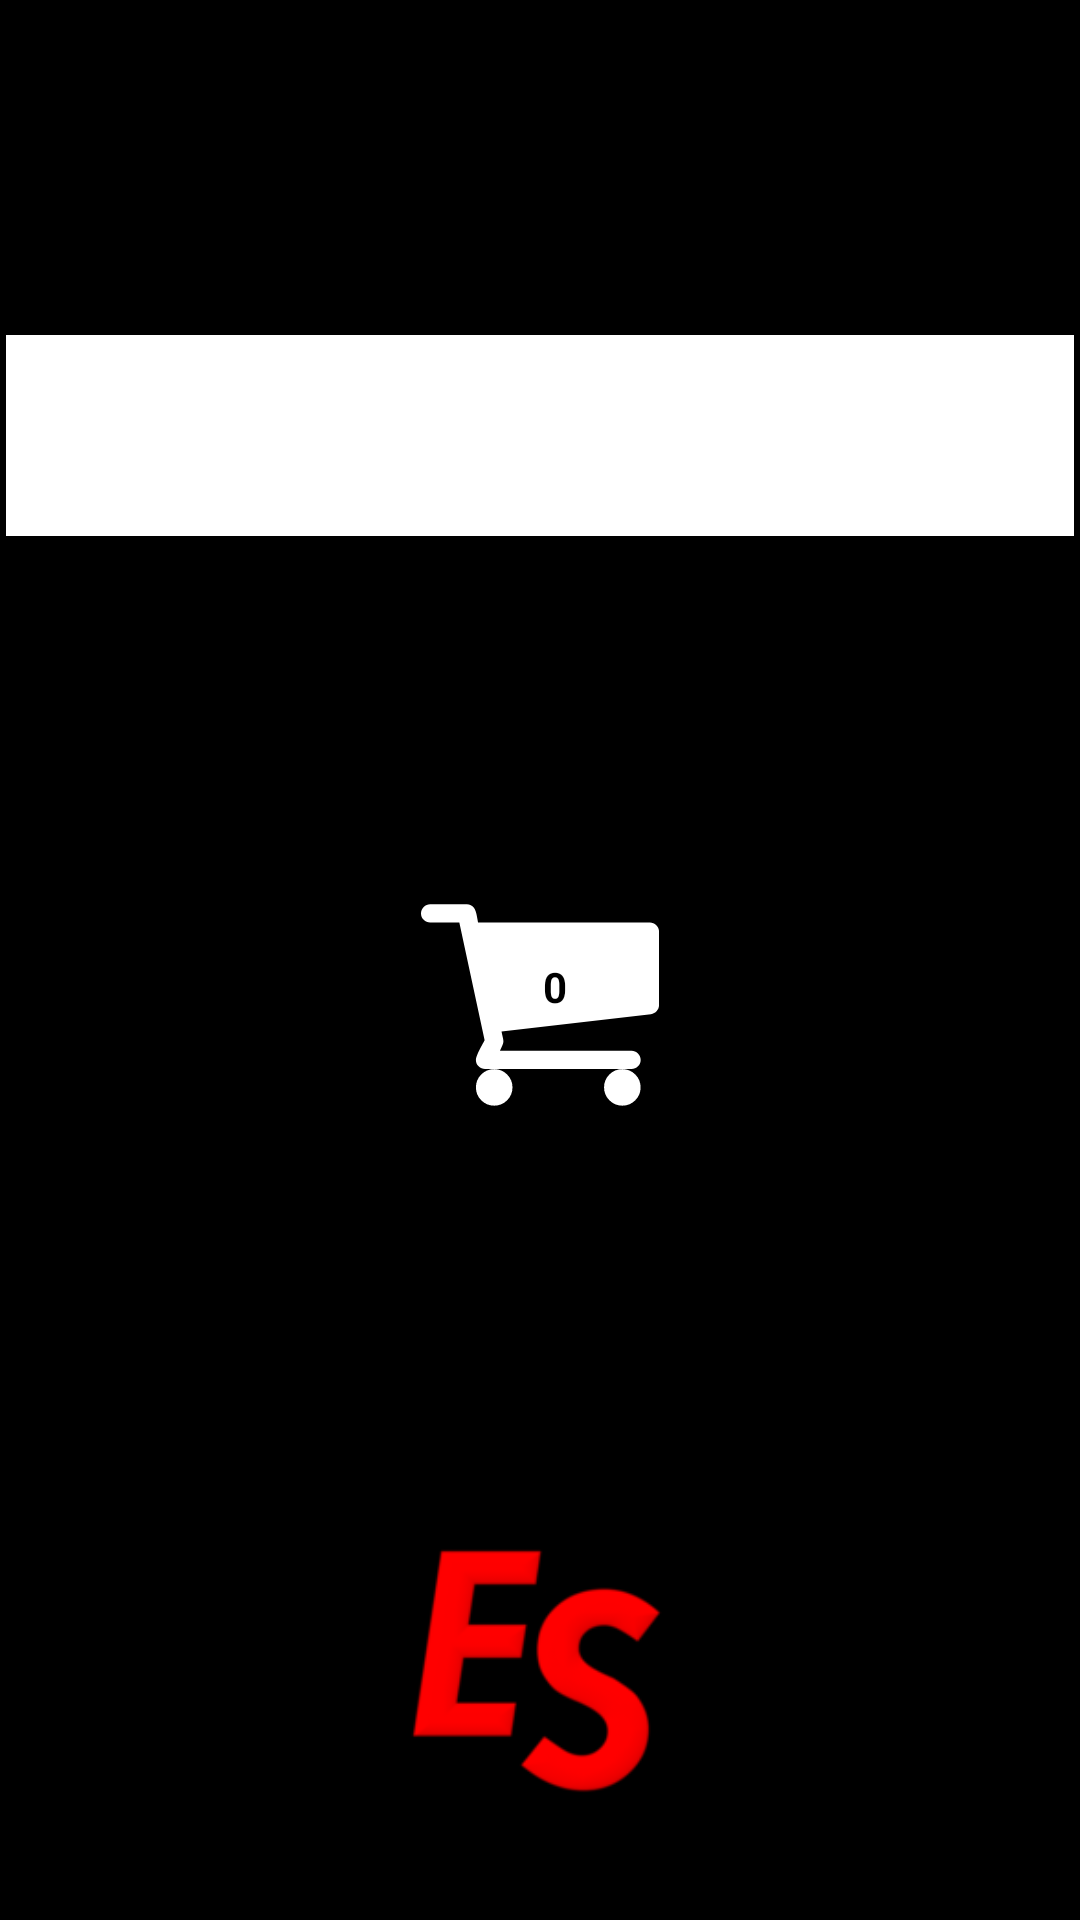

Where icons sit on this 1080x1920 app screen, as (x1, y1, x2, y2):
carrito: (421, 904, 659, 1106)
